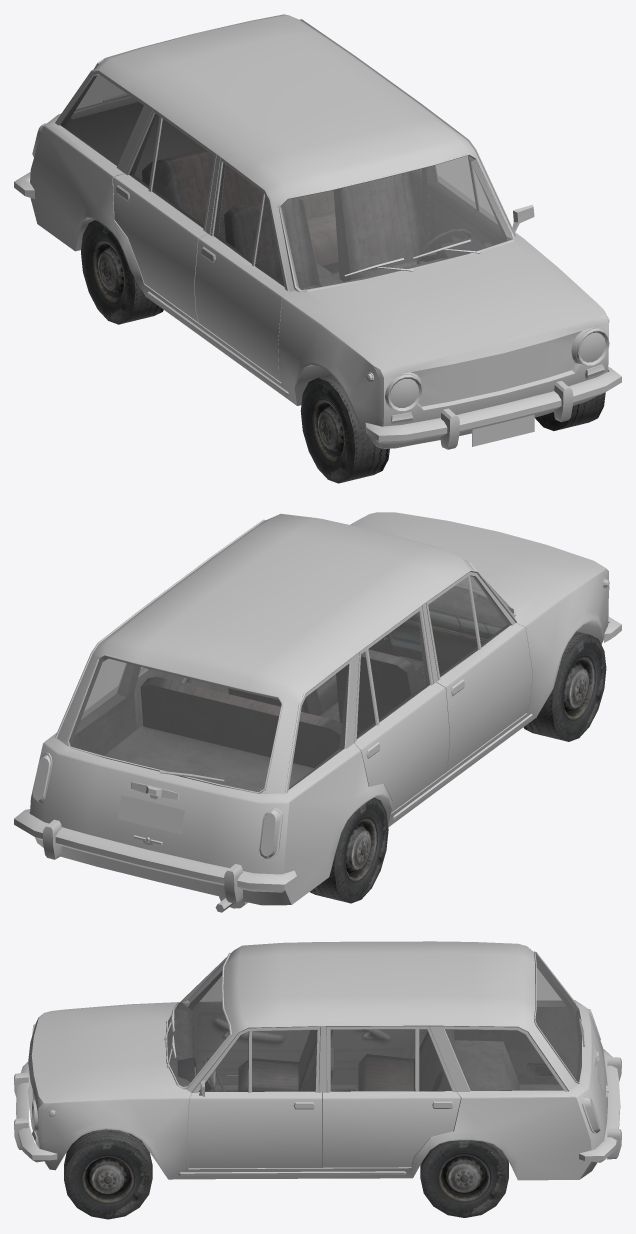
Rendered from Lada1200.FBX.
The picture shows the model from 3 angles, top to bottom: view 1: azimuth 30°, elevation 25°; view 2: azimuth 150°, elevation 25°; view 3: azimuth 270°, elevation 25°; orthographic projection. The views are drawn at different scales.
Visible parts, largest first — view 1: Body, Glass, Interior, WheelFrontRight, WheelRearRight, WheelFrontLeft; view 2: Body, Glass, Interior, WheelFrontRight, WheelRearRight; view 3: Body, Glass, Interior, WheelFrontLeft, WheelRearLeft.
Part boxes in pixels (x1,y1,x2,y2): Body: [14, 14, 621, 449]; Glass: [60, 75, 512, 289]; Interior: [60, 75, 507, 289]; WheelFrontRight: [300, 374, 389, 483]; WheelRearRight: [81, 220, 163, 324]; WheelFrontLeft: [535, 392, 605, 430]; Body: [14, 512, 621, 912]; Glass: [69, 576, 513, 792]; Interior: [69, 577, 513, 792]; WheelFrontRight: [523, 631, 606, 741]; WheelRearRight: [310, 797, 388, 903]; Body: [14, 941, 621, 1180]; Glass: [167, 953, 581, 1091]; Interior: [167, 954, 581, 1091]; WheelFrontLeft: [64, 1129, 152, 1219]; WheelRearLeft: [420, 1140, 508, 1217].
Bounding box in the file's own units: 174 × 143 × 404.
